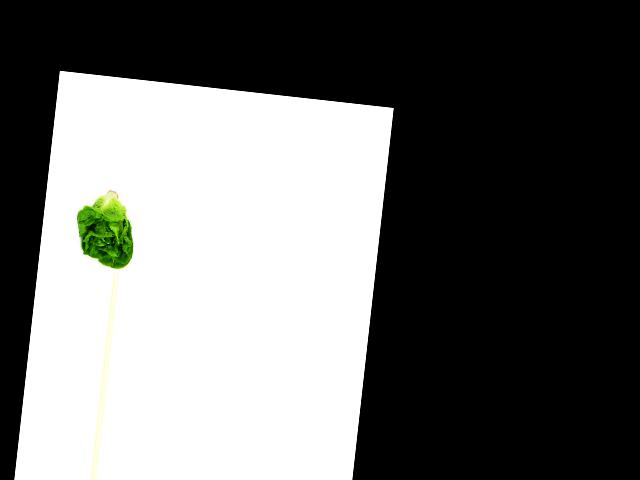lettuce: (67, 184, 141, 270)
